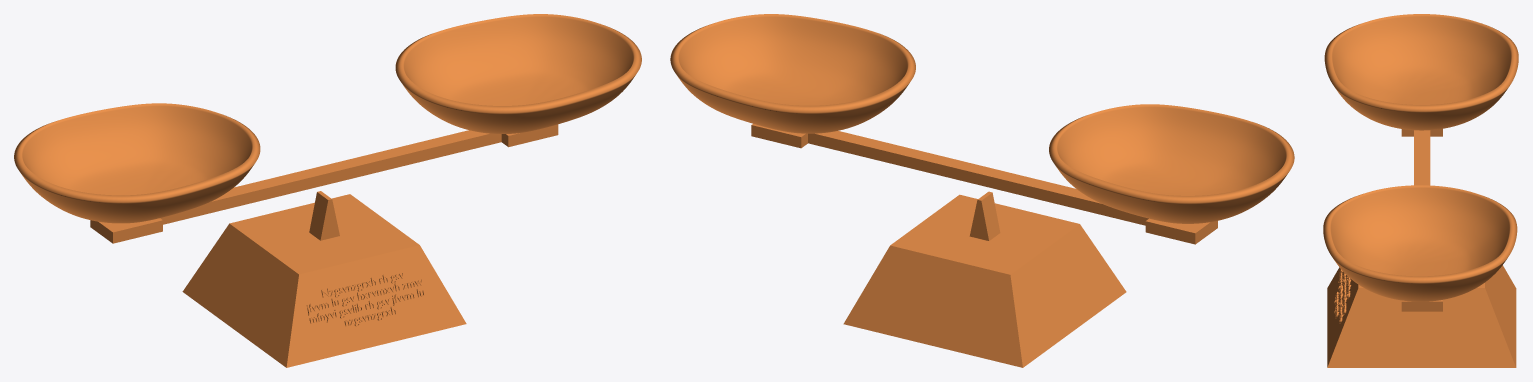
Rendered from weighing-machine.fbx.
3 renders of one model, left to right at view 1: azimuth 30°, elevation 25°; view 2: azimuth 150°, elevation 25°; view 3: azimuth 270°, elevation 25°, orthographic. The views are drawn at different scales.
Parts seen in each view (by area): view 1: Cube, чаша 1, чаша 2, Cube.001; view 2: Cube, чаша 1, чаша 2, Cube.001; view 3: чаша 2, чаша 1, Cube, Cube.001.
Boxes of the visible parts, x1,y1,x2,y2 form: Cube: [182, 191, 466, 367]; чаша 1: [14, 103, 260, 223]; чаша 2: [395, 14, 641, 133]; Cube.001: [90, 124, 558, 243]; Cube: [843, 191, 1126, 367]; чаша 1: [1049, 104, 1294, 223]; чаша 2: [670, 14, 915, 133]; Cube.001: [751, 123, 1217, 244]; чаша 2: [1323, 185, 1517, 301]; чаша 1: [1324, 14, 1518, 130]; Cube: [1327, 265, 1516, 367]; Cube.001: [1401, 129, 1442, 311].
Size of the model in its own units: 502 by 164 by 157.
